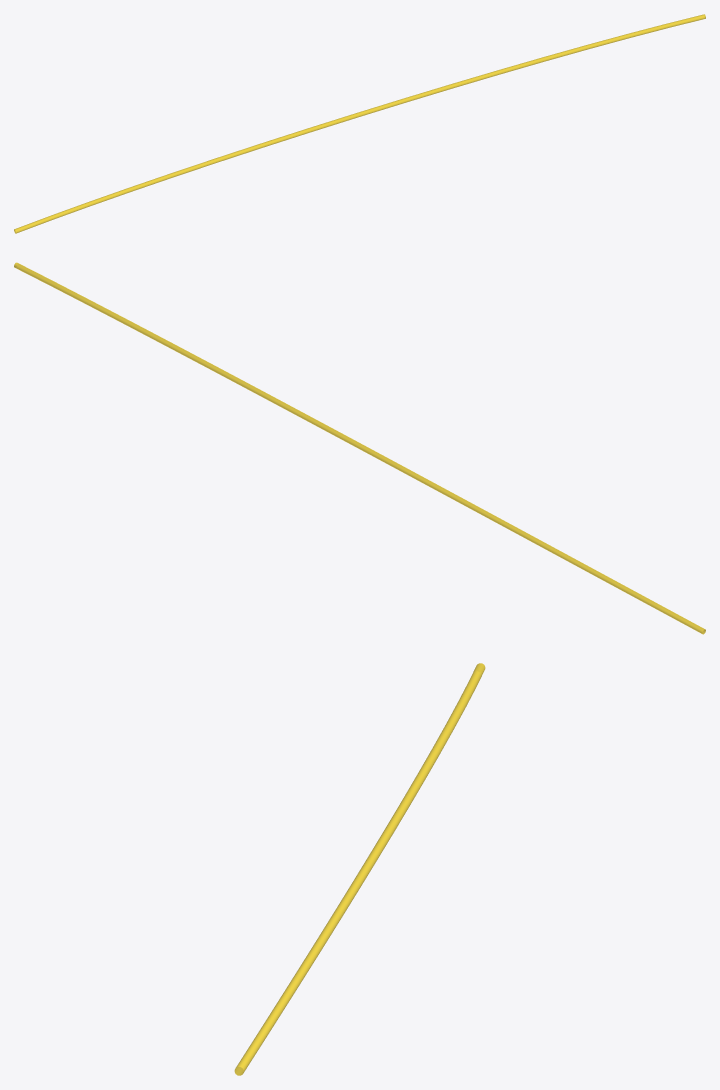
The model's file is Event_419990632_track_25.fbx.
3 views of the same model, one above another, from view 1: azimuth 30°, elevation 25°; view 2: azimuth 150°, elevation 25°; view 3: azimuth 270°, elevation 25° (orthographic). The views are drawn at different scales.
Visible parts, largest first — view 1: Model; view 2: Model; view 3: Model.
Boxes of the visible parts, <box> form: Model: <box>14,14,705,233</box>; Model: <box>14,262,705,634</box>; Model: <box>234,663,485,1075</box>.
Bounding box in the file's own units: 6.16 × 1.02 × 1.06.
